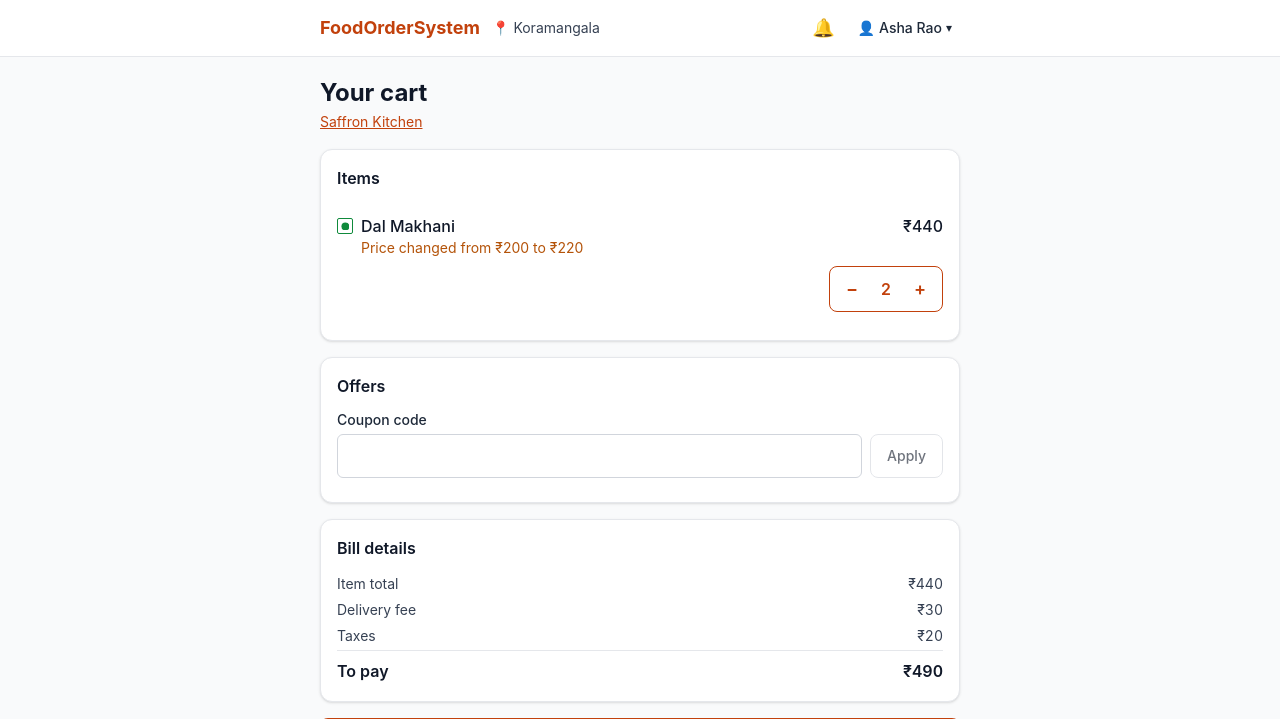
Scenario: customer ordering journey › shows the price breakdown, flags changed prices and explains a rejected coupon
This screenshot has width=1280, height=719.
Expected: the text "Price changed from ₹200 to ₹220" is shown, [361,239,583,256]
Expected: the text "₹440" in the row of "Item total" is shown, [908,575,943,592]
In the field labelled "Coupon code": (600, 456) [337,434,862,478], type "save50"
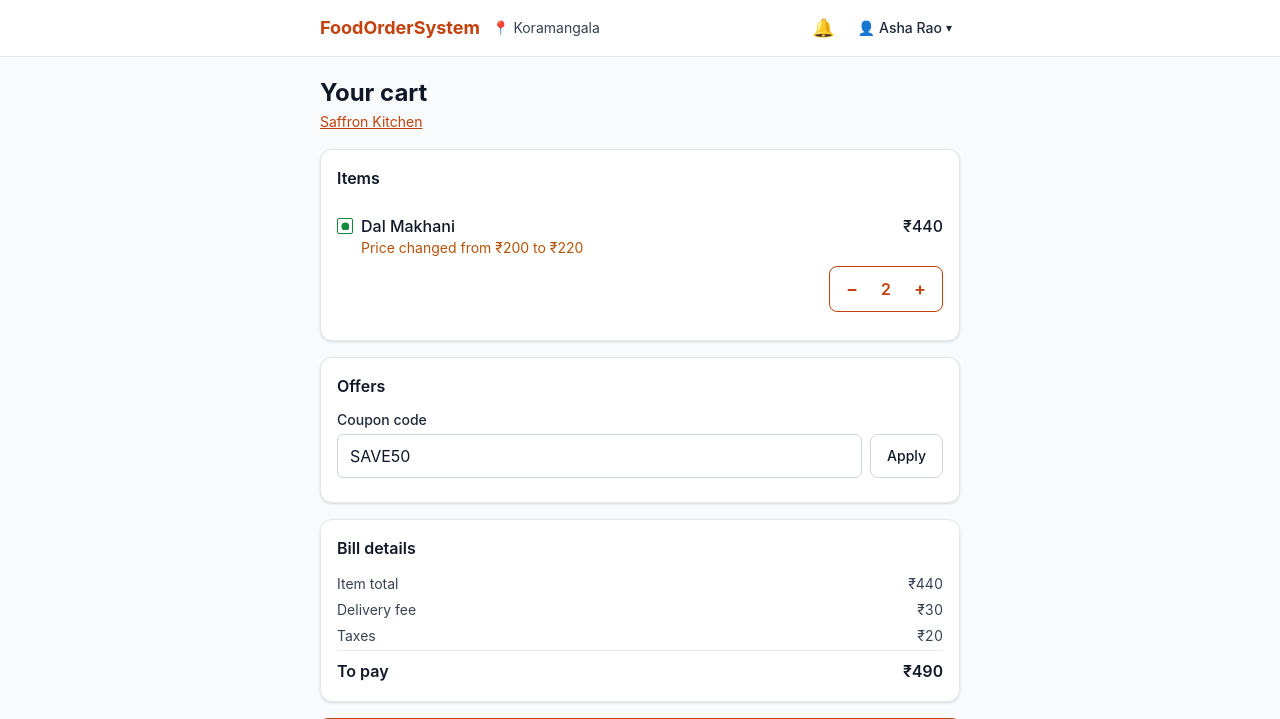
Click the button "Apply": (907, 456) [870,434,943,478]
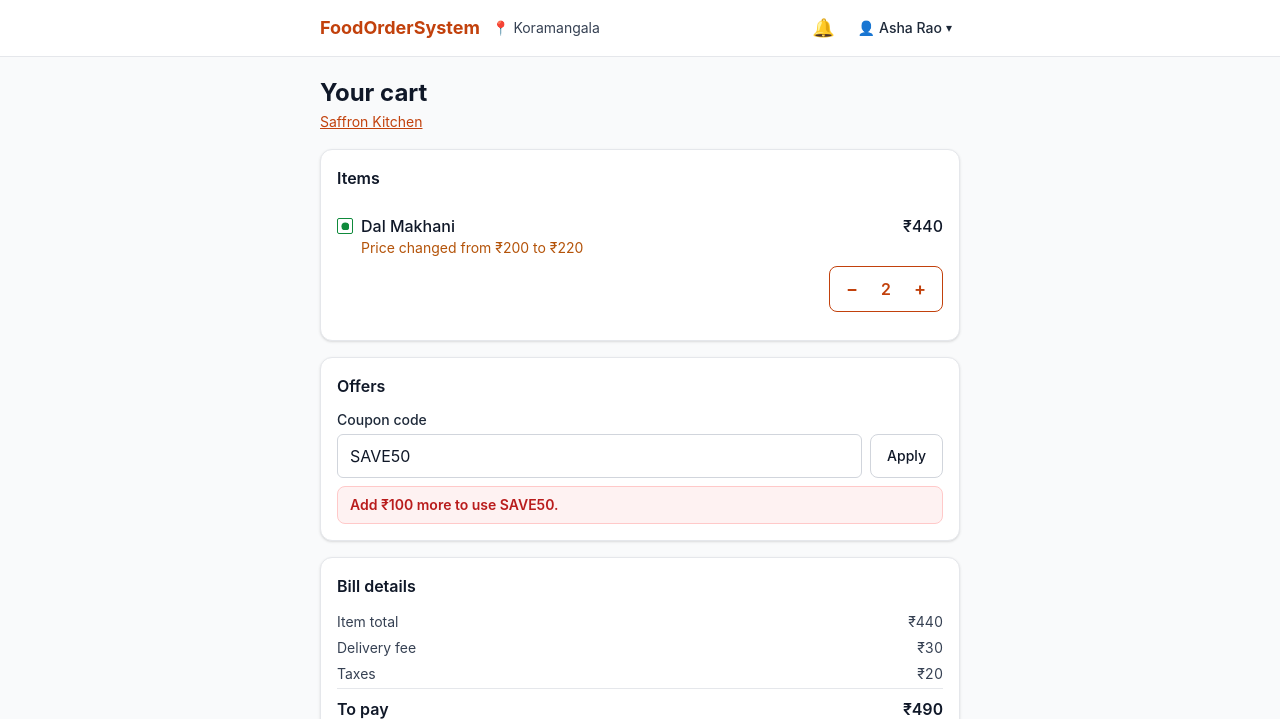
Now the message "Add ₹100 more to use SAVE50." is shown, box [337,486,943,524]
